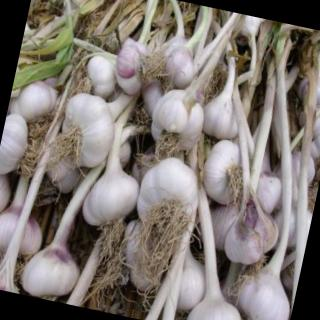Bawang Putih: (134, 152, 208, 235), (52, 90, 122, 173), (146, 86, 210, 159), (79, 167, 144, 234)
